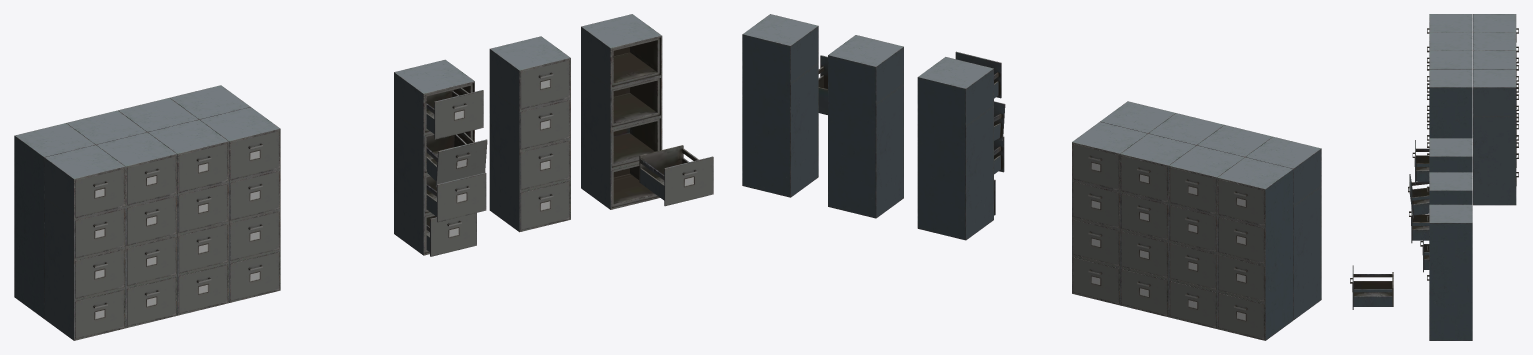
The model's file is optimized_cabinet.glb.
3 views of the same model, side by side, from view 1: azimuth 30°, elevation 25°; view 2: azimuth 150°, elevation 25°; view 3: azimuth 270°, elevation 25° (orthographic). The views are drawn at different scales.
Visible parts, largest first — view 1: box_2, box_6, box, box_1, box_5, box_4, box_3, box_10, object 1, box_7, box_9, box_8; view 2: box_1, box_2, box_10, box, box_8, box_9, box_7, box_6, box_4, box_3, box_5; view 3: box_2, box_7, box_1, box_3, box, box_8, box_4, box_9, box_10, box_5, box_6, object 1.
Part boxes in pixels (x1,y1,x2,y2): box_2: (581, 14, 713, 209); box_6: (44, 145, 125, 340); box: (489, 36, 570, 232); box_1: (394, 59, 487, 255); box_5: (96, 132, 177, 328); box_4: (148, 119, 228, 315); box_3: (200, 107, 280, 302); box_10: (14, 123, 95, 318); object 1: (426, 213, 476, 256); box_7: (170, 85, 250, 119); box_9: (66, 110, 146, 144); box_8: (118, 98, 198, 132); box_1: (917, 51, 1005, 240); box_2: (742, 14, 827, 197); box_10: (1217, 157, 1293, 340); box: (828, 35, 903, 218); box_8: (1120, 133, 1196, 317); box_9: (1169, 145, 1244, 328); box_7: (1072, 122, 1147, 305); box_6: (1245, 136, 1321, 320); box_4: (1148, 113, 1224, 145); box_3: (1100, 101, 1175, 133); box_5: (1197, 125, 1272, 156); box_2: (1350, 204, 1472, 340); box_7: (1473, 69, 1518, 205); box_1: (1408, 138, 1472, 243); box_3: (1427, 69, 1472, 147); box: (1427, 172, 1472, 280); box_8: (1473, 50, 1518, 167); box_4: (1427, 50, 1472, 155); box_9: (1473, 32, 1518, 145); box_10: (1473, 14, 1518, 127); box_5: (1427, 32, 1472, 140); box_6: (1427, 14, 1472, 122); object 1: (1420, 240, 1429, 272).
Size of the model in its own units: 4.57 by 1.2 by 1.56.
1 material, 1 textured.
